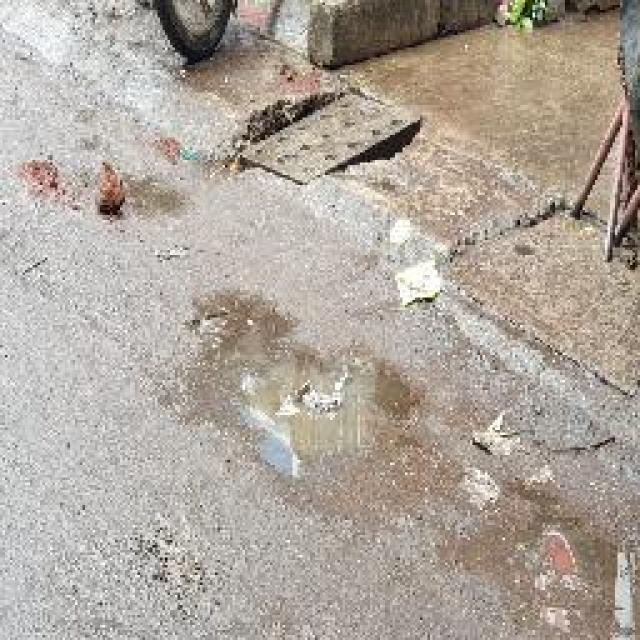stagnation: (178, 260, 394, 499)
